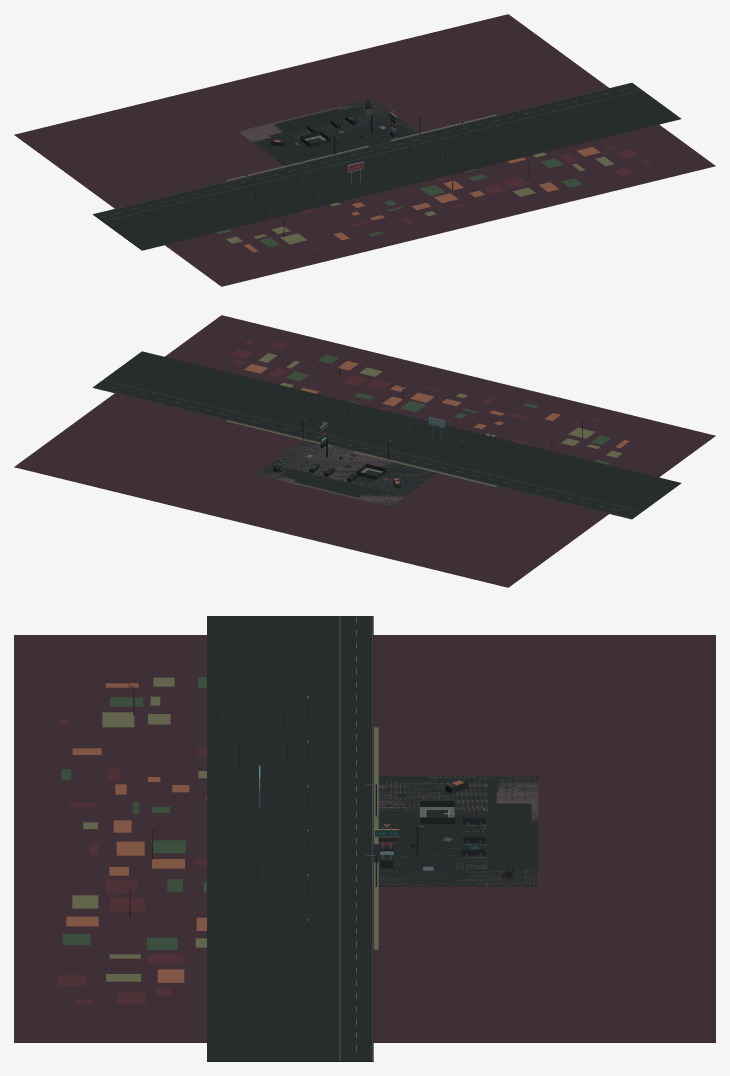
Rendered from motel_parcare.glb.
3 views of the same model, one above another, from view 1: azimuth 30°, elevation 25°; view 2: azimuth 150°, elevation 25°; view 3: azimuth 270°, elevation 25° (orthographic). The views are drawn at different scales.
Visible parts, largest first — view 1: Parcare, Coliziune; view 2: Parcare, Coliziune; view 3: Parcare, Coliziune.
Part boxes in pixels (<box>): Parcare: <box>14,14,715,286</box>; Coliziune: <box>93,82,680,250</box>; Parcare: <box>14,315,715,587</box>; Coliziune: <box>92,351,681,519</box>; Parcare: <box>14,616,715,1061</box>; Coliziune: <box>207,616,538,1061</box>.
Size of the model in its own units: 240 by 13.38 by 160.
